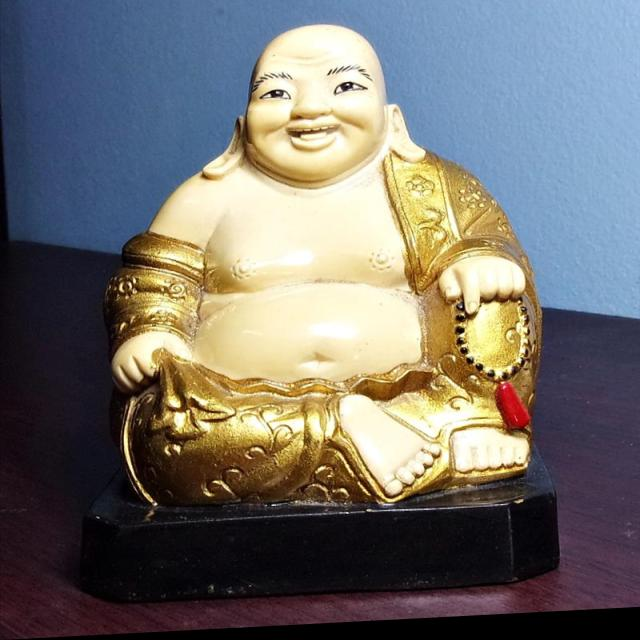Smiling Buddha: (122, 17, 540, 490)
